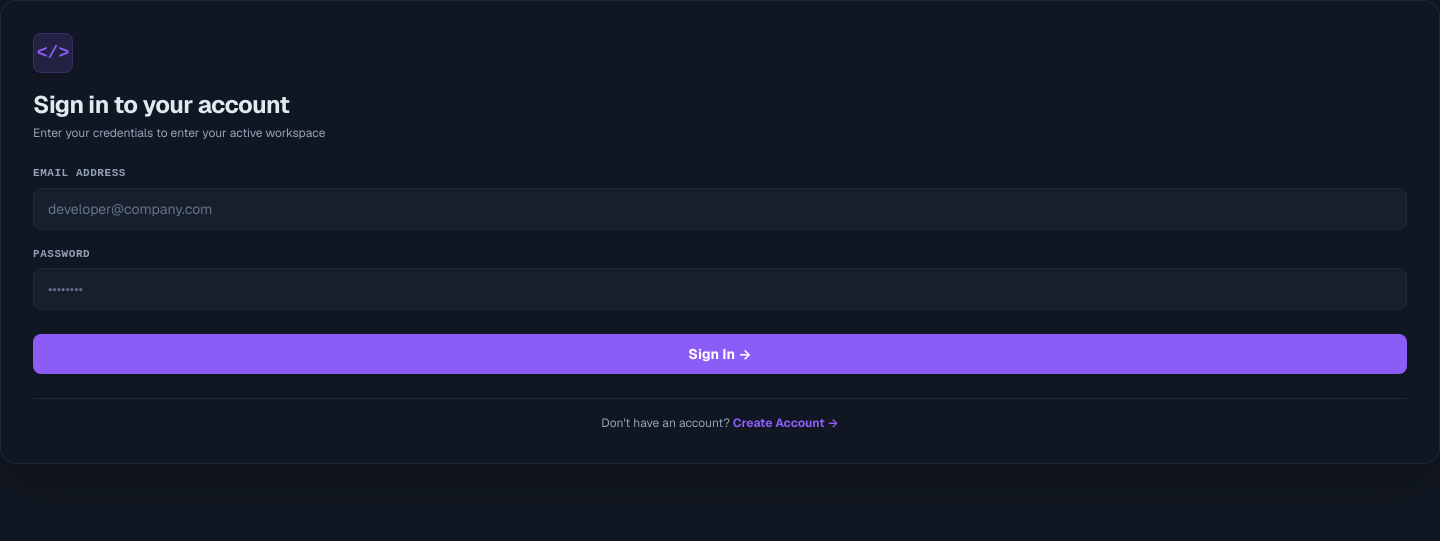
Auth Store & Authentication Flow Tests › API Login Integrations › should display server error message on login failure
Type "test@example.com" into the field labelled "Email Address" at (720, 208), box 33,188 -> 1407,230
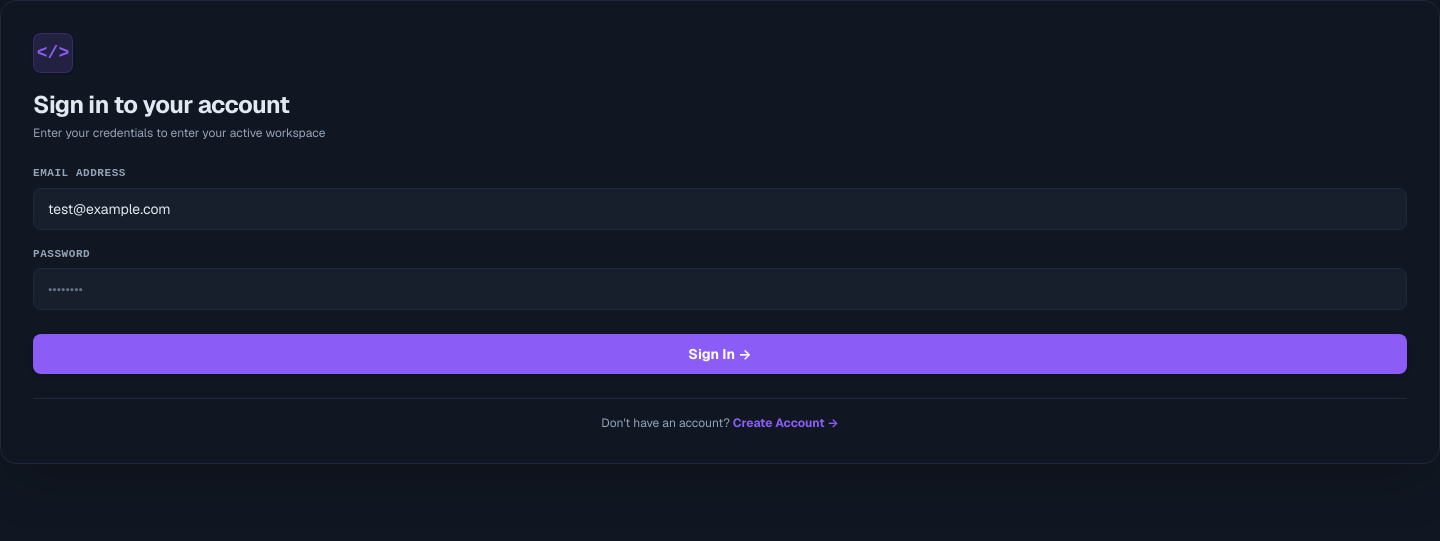
Type "wrongpassword" into the password field labelled "Password" at (720, 289), box 33,268 -> 1407,310
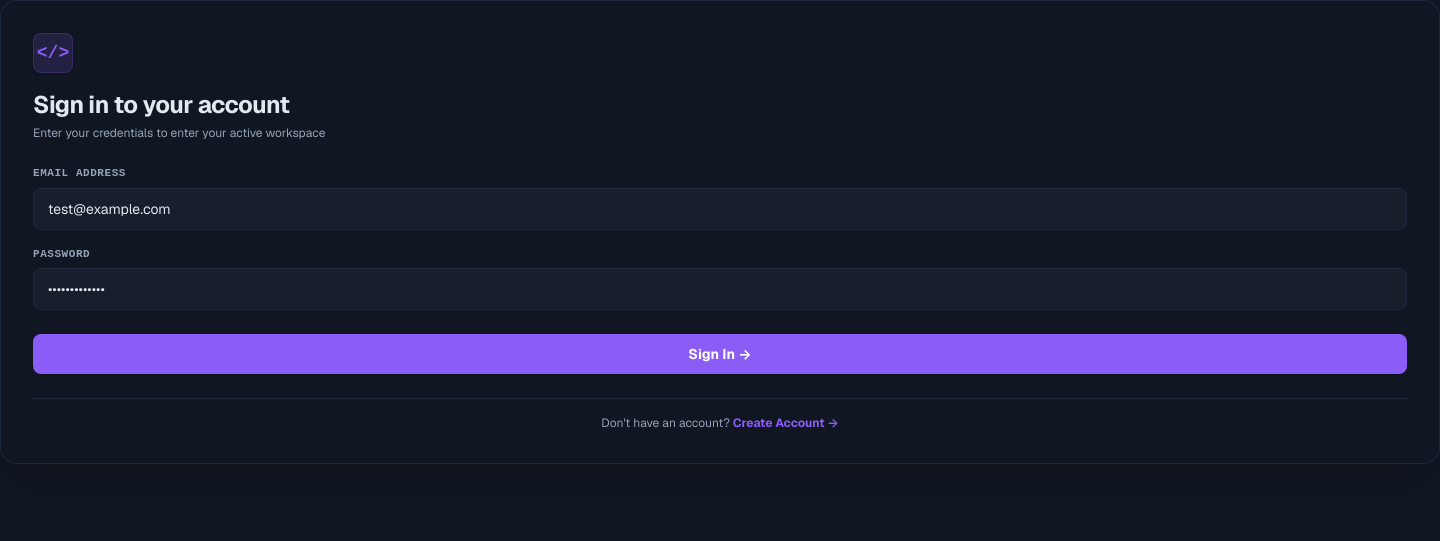
Click the button "Sign In →" at (720, 354), box 33,334 -> 1407,374
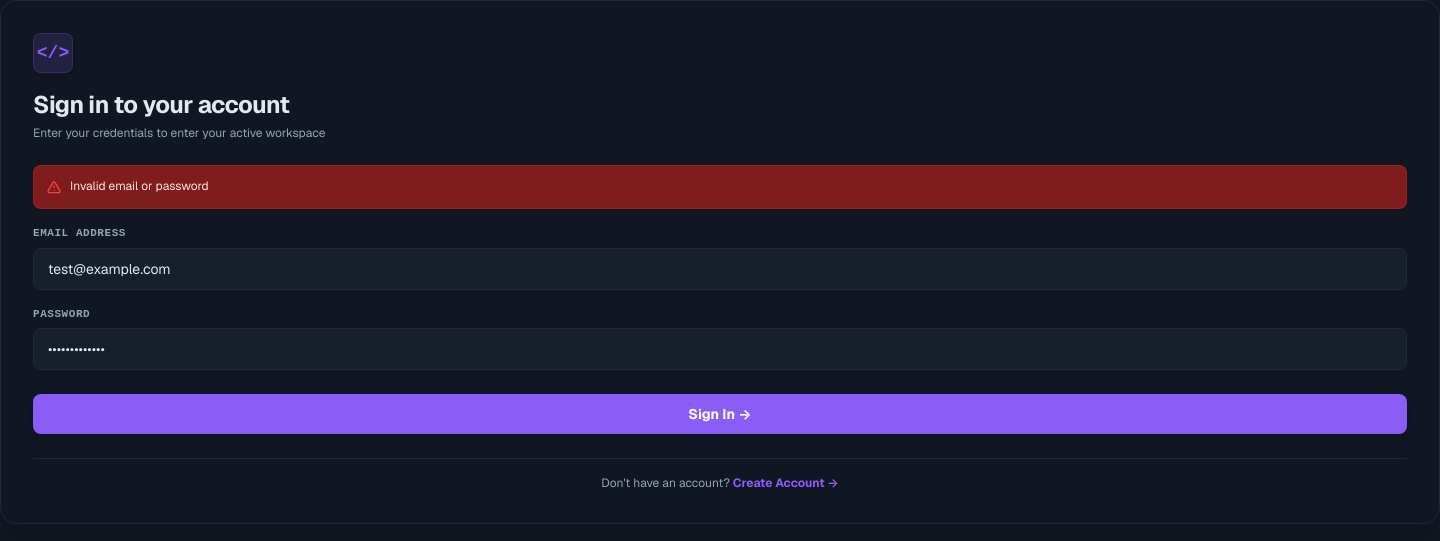
Now the text "Invalid email or password" is shown, box 70,178 -> 209,194
